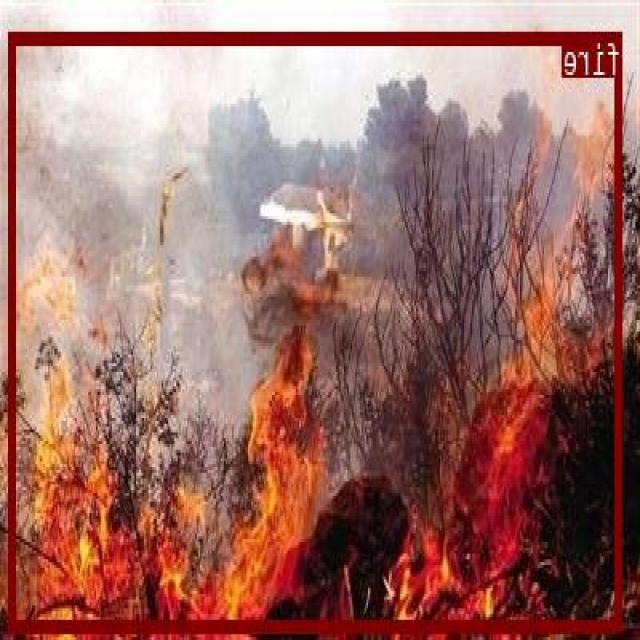fire: (10, 30, 623, 631)
